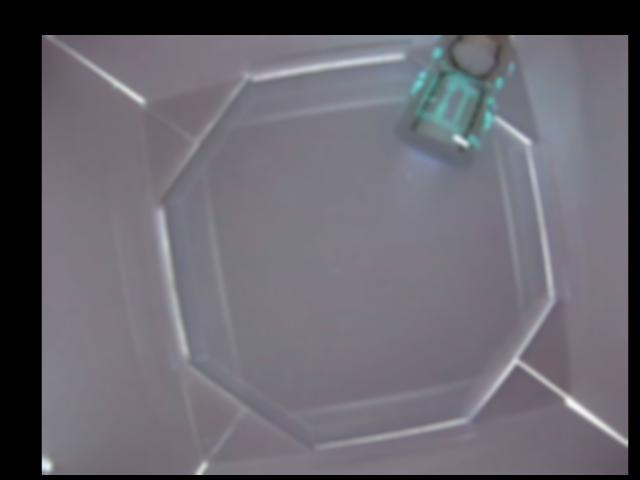Bottle: (393, 35, 518, 169)
